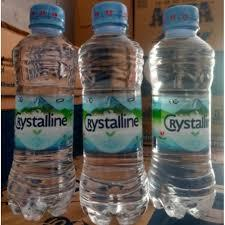BIODEGRADABLE: (74, 1, 145, 216), (7, 3, 76, 213), (148, 0, 216, 208)
